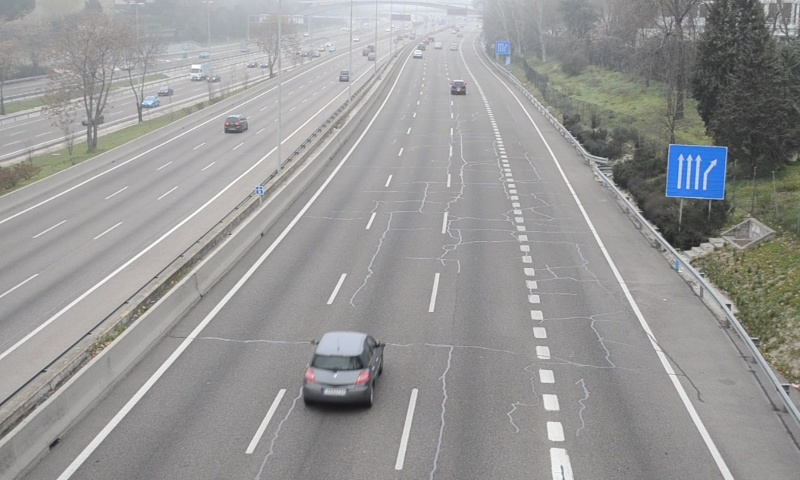car: (304, 332, 382, 408), (450, 80, 466, 94)
